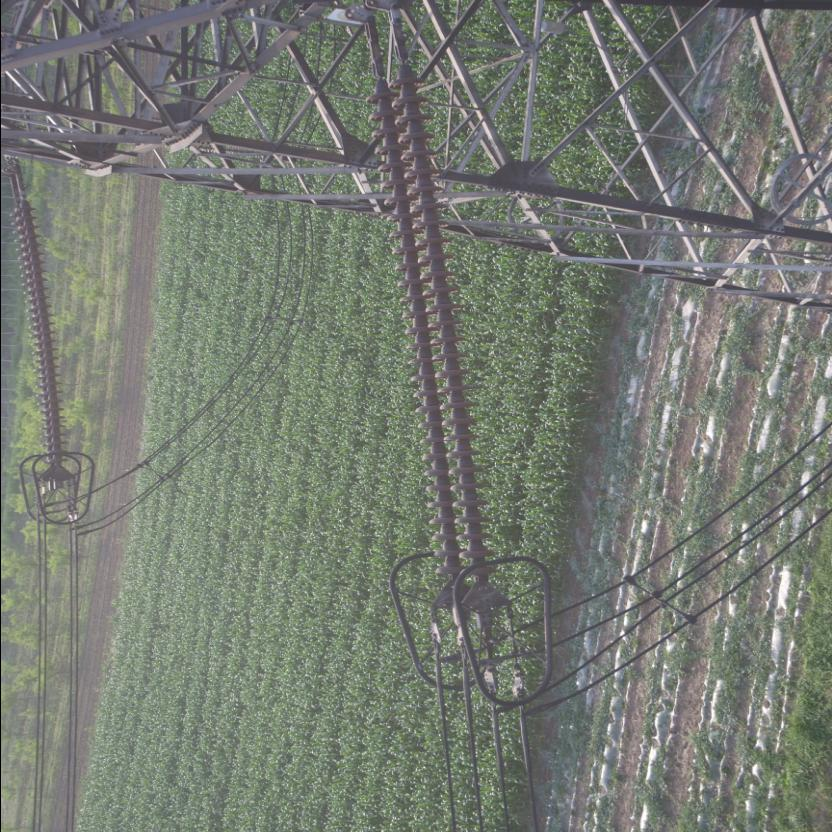insulator: (362, 50, 498, 593), (2, 184, 68, 474)
